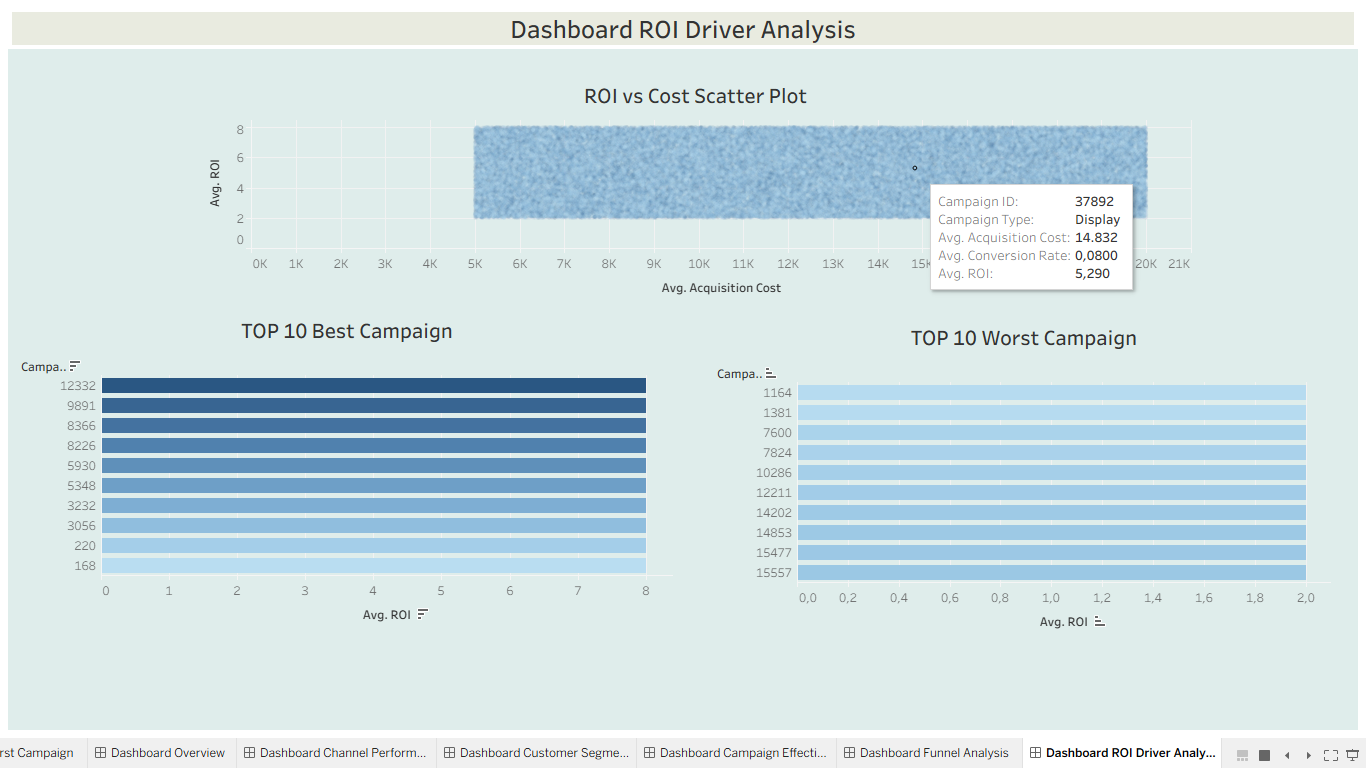

This screenshot's page, from the dashboard's own definition file:
{"tool":"tableau","page":{"name":"Dashboard ROI Driver Analysis","canvas":[1000,1000],"units":"permille","ordinal":5},"visuals":[{"type":"title","box":[5.9,10.8,988.3,55.6]},{"type":"worksheet","title":"ROI vs Cost Scatter Plot","mark":"Automatic","rows":["ROI"],"cols":["Acquisition_Cost"],"box":[145.5,104.7,727.3,305.7]},{"type":"worksheet","title":"TOP 10 Best Campaign","mark":"Automatic","rows":["Campaign_ID"],"cols":["ROI"],"box":[15.6,422.3,477.1,557.4]},{"type":"worksheet","title":"TOP 10 Worst Campaign","mark":"Automatic","rows":["Campaign_ID"],"cols":["ROI"],"box":[524.7,432.4,449.4,543.9]}]}

Visuals, with their boxes on the dashboard's canvas, which has no fixed pixel size, in thousandths of its width and height (x1, y1, x2, y2). These are canvas units, not pixel positions in the 1366x768 screenshot, which may show the page scaled, cropped or inside an application window:
title: rect(6, 11, 994, 66)
"ROI vs Cost Scatter Plot" worksheet: rect(146, 105, 873, 410)
"TOP 10 Best Campaign" worksheet: rect(16, 422, 493, 980)
"TOP 10 Worst Campaign" worksheet: rect(525, 432, 974, 976)
